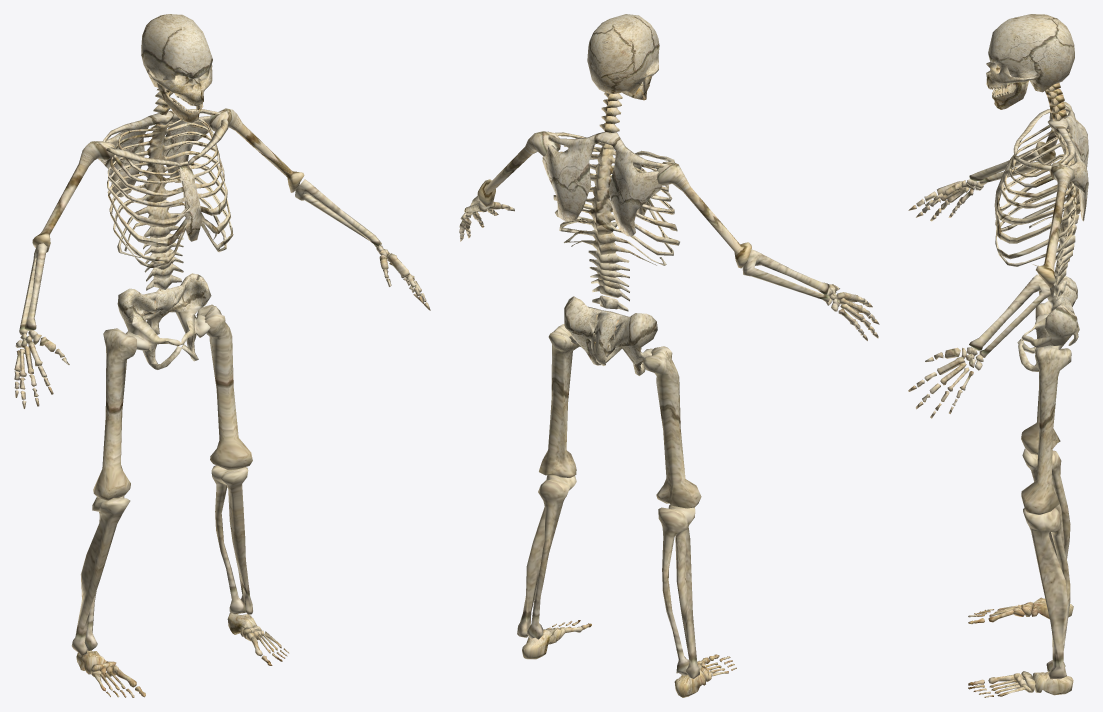
The model's file is skeleton1.obj.
3 renders of one model, left to right at view 1: azimuth 30°, elevation 25°; view 2: azimuth 150°, elevation 25°; view 3: azimuth 270°, elevation 25°, orthographic.
Parts seen in each view (by area): view 1: culeveritaMesh; view 2: culeveritaMesh; view 3: culeveritaMesh.
Boxes of the visible parts, x1,y1,x2,y2 form: culeveritaMesh: [14, 14, 430, 697]; culeveritaMesh: [459, 14, 879, 697]; culeveritaMesh: [908, 14, 1088, 697].
Size of the model in its own units: 10.08 by 15.21 by 3.9.
1 material, 1 textured.
